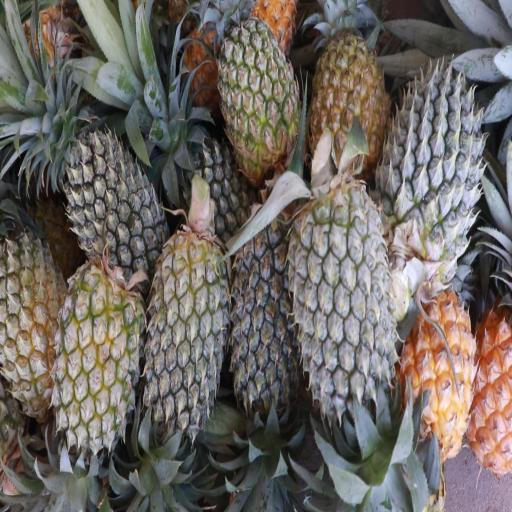------------------------------: (54, 260, 145, 448), (220, 16, 299, 182), (0, 229, 70, 411)
Pineapple - v8 v1: (404, 293, 478, 467), (311, 27, 391, 174)
